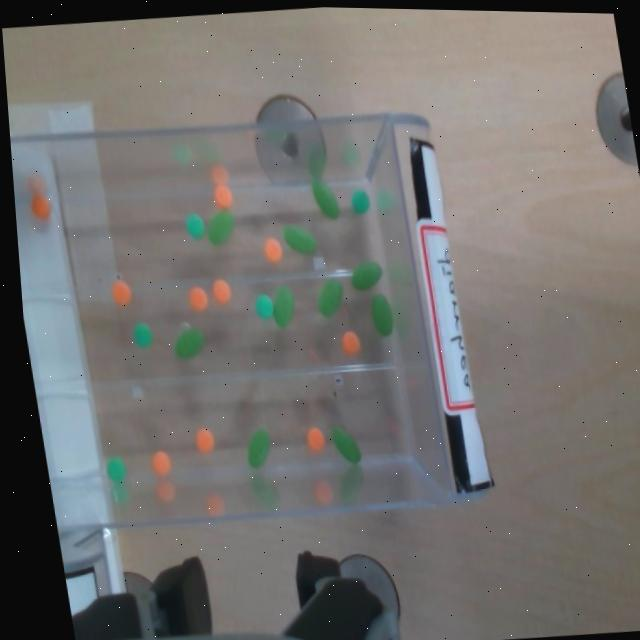famodine: (103, 454, 126, 480), (130, 320, 153, 345), (348, 187, 370, 212), (252, 292, 273, 318), (182, 211, 203, 236), (106, 455, 125, 482), (254, 292, 272, 318), (132, 321, 151, 345), (185, 212, 203, 237), (350, 188, 368, 212)
otillen_tab: (312, 275, 347, 316), (202, 206, 238, 245), (328, 423, 362, 464), (267, 283, 298, 327), (309, 176, 340, 219), (241, 427, 274, 467), (367, 291, 395, 336), (346, 257, 384, 289), (280, 221, 316, 254), (170, 326, 206, 358), (331, 426, 360, 462), (311, 178, 338, 216), (282, 223, 315, 253), (317, 277, 342, 315), (370, 292, 392, 335), (207, 208, 233, 243), (174, 327, 203, 357), (350, 260, 381, 288), (272, 285, 293, 325), (247, 428, 268, 467)
samsung_octylonium_tab: (27, 191, 51, 218), (208, 278, 232, 303), (261, 235, 282, 262), (30, 191, 50, 219), (108, 279, 131, 303), (185, 286, 208, 310), (193, 425, 215, 450), (148, 449, 170, 474), (262, 235, 282, 262), (339, 330, 361, 354), (304, 426, 325, 451), (111, 276, 130, 303), (188, 285, 208, 310), (151, 449, 170, 475), (211, 277, 230, 302), (211, 183, 231, 206), (195, 427, 214, 451), (340, 330, 359, 354), (213, 182, 231, 207), (306, 426, 324, 451)
